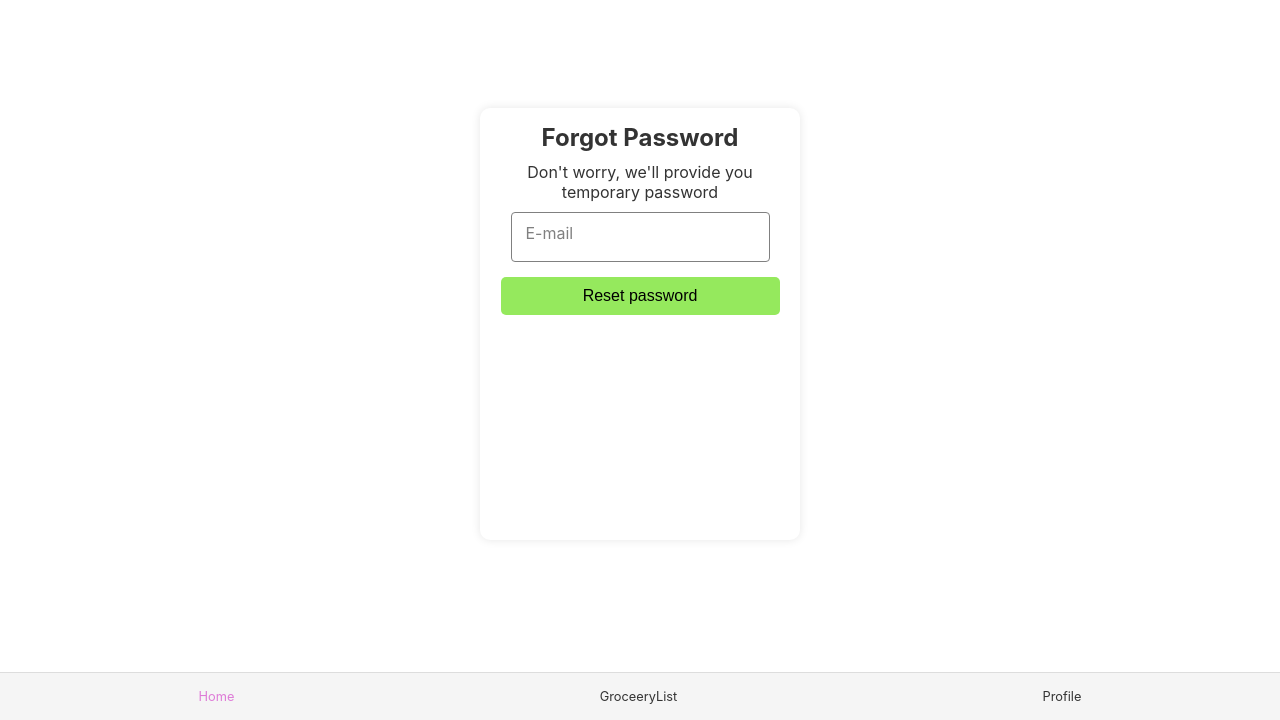
handles server error
In the field labelled "E-mail": (640, 237) [510,212,770,262], type "test@example.com"
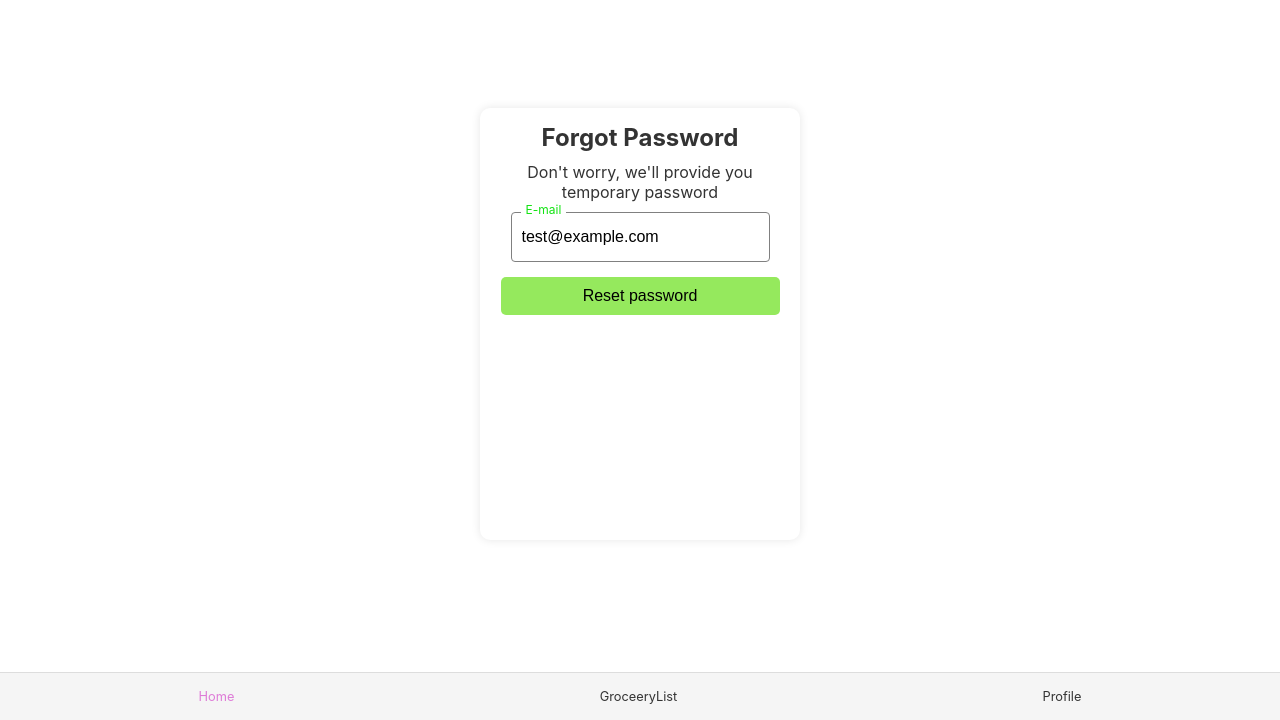
Submit the form with test id "forgot-password-form", box [485,113,795,315]
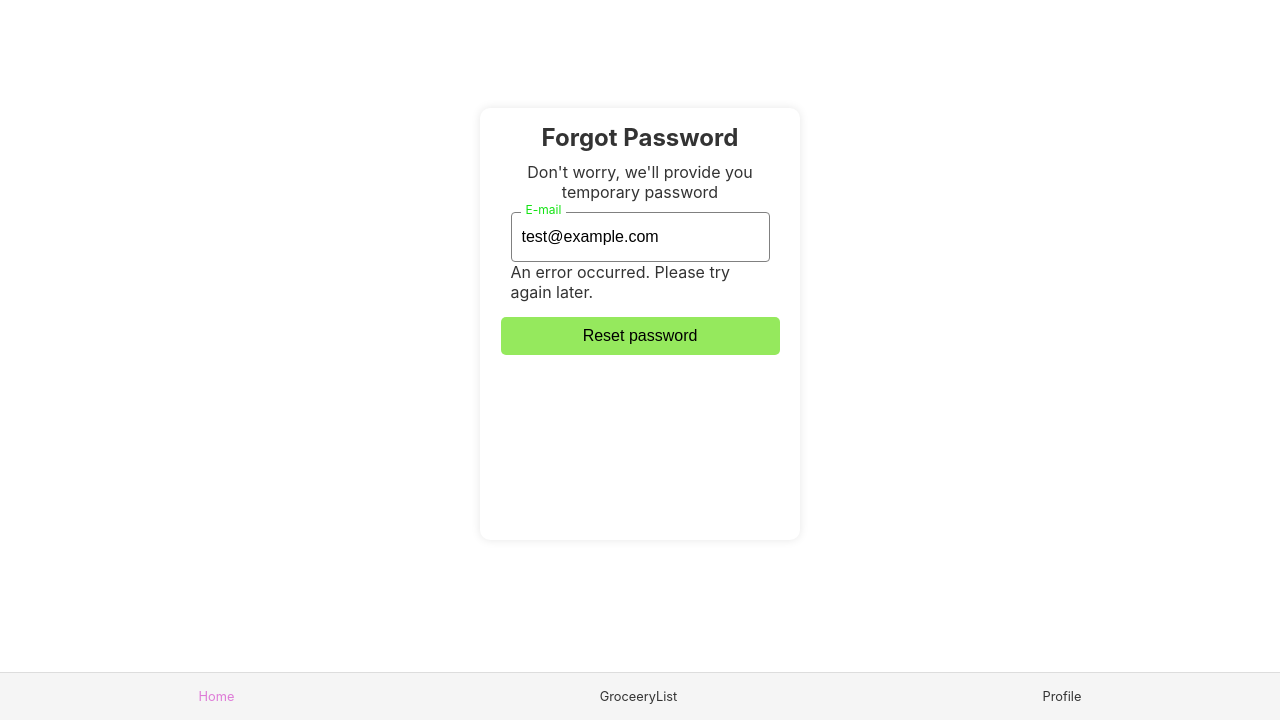
Expected: the text "An error occurred. Please try again later." is shown, [510,262,730,302]
